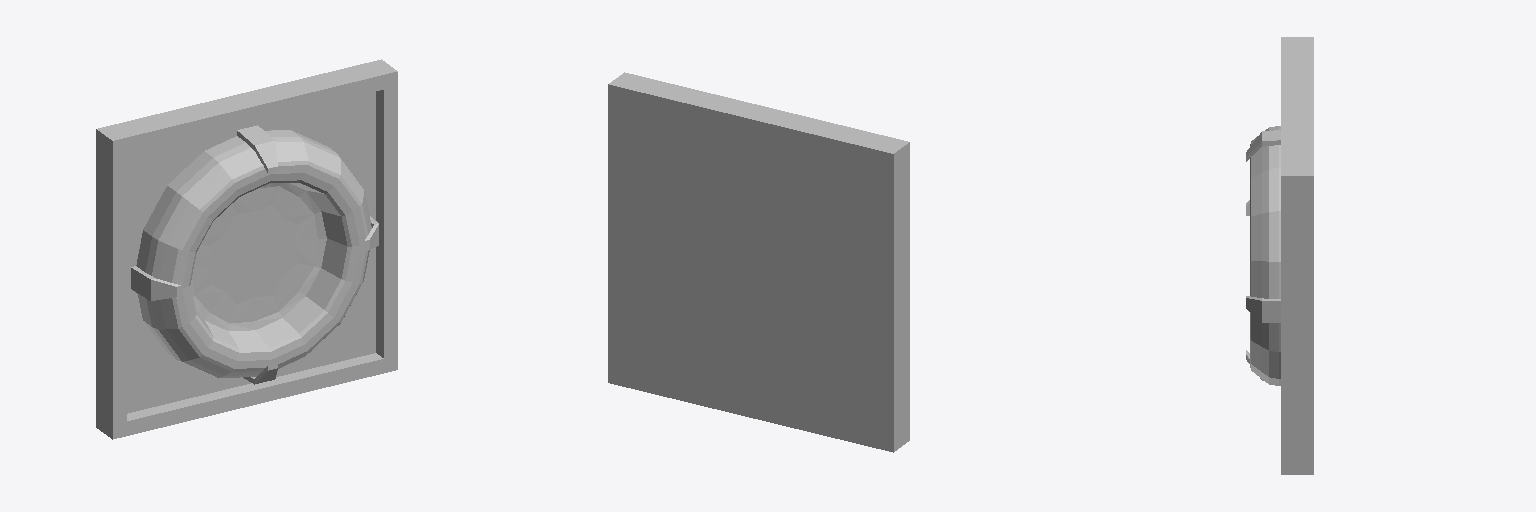
The model's file is SM_LaserReceiver.obj.
3 renders of one model, left to right at view 1: azimuth 30°, elevation 25°; view 2: azimuth 150°, elevation 25°; view 3: azimuth 270°, elevation 25°, orthographic.
Parts seen in each view (by area): view 1: base, receiver, grip1, grip3; view 2: base; view 3: base, receiver, grip2.
Part boxes in pixels (left/top/right/bottom): base: left=96, top=59, right=397, bottom=439; receiver: left=136, top=130, right=371, bottom=377; grip1: left=131, top=266, right=181, bottom=300; grip3: left=237, top=125, right=277, bottom=173; base: left=608, top=72, right=909, bottom=452; base: left=1281, top=37, right=1313, bottom=474; receiver: left=1250, top=126, right=1280, bottom=385; grip2: left=1246, top=296, right=1280, bottom=322.
Bounding box in the file's own units: 10 × 10 × 2.08.